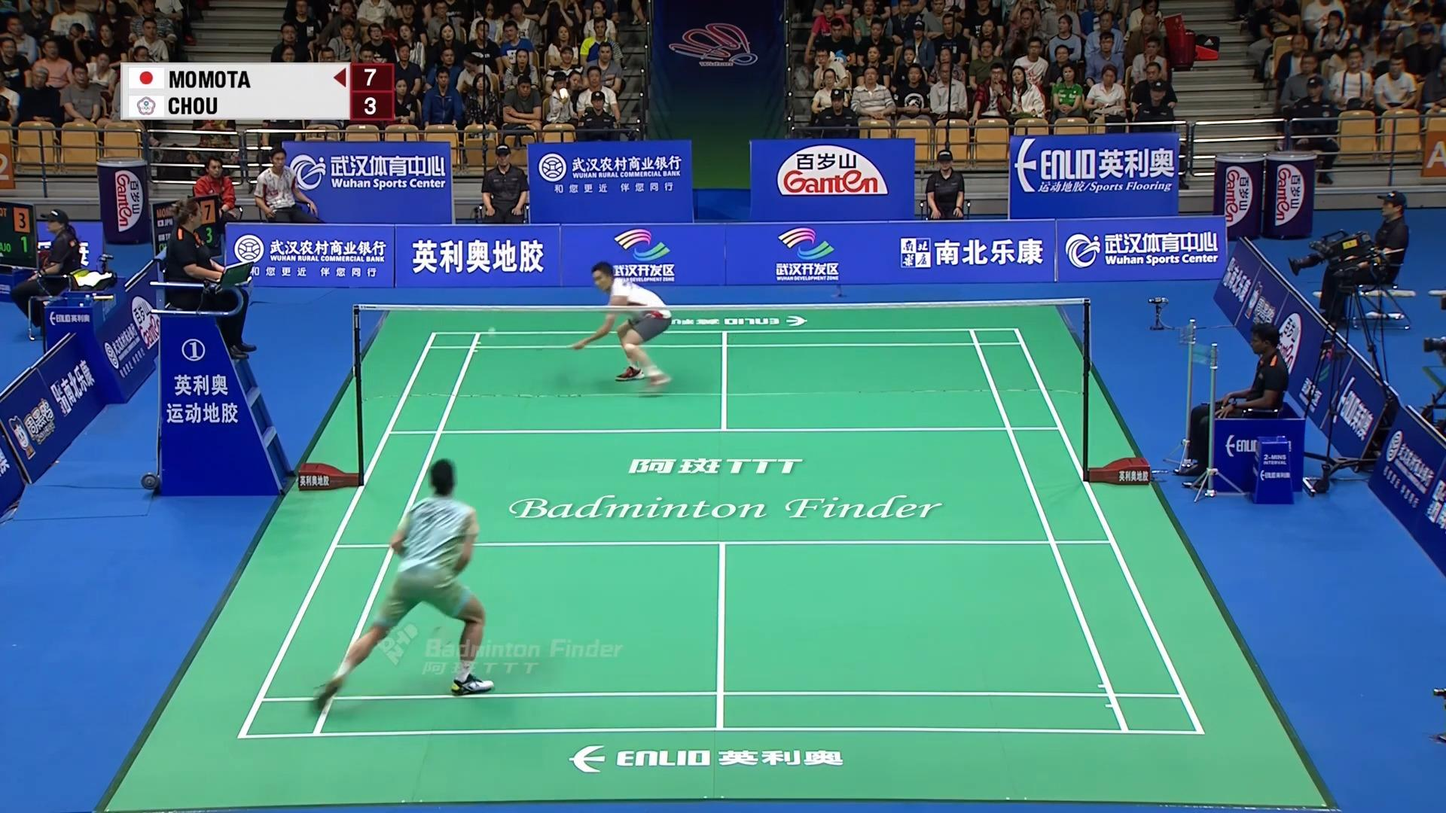shuttlecock: (487, 327, 497, 339)
